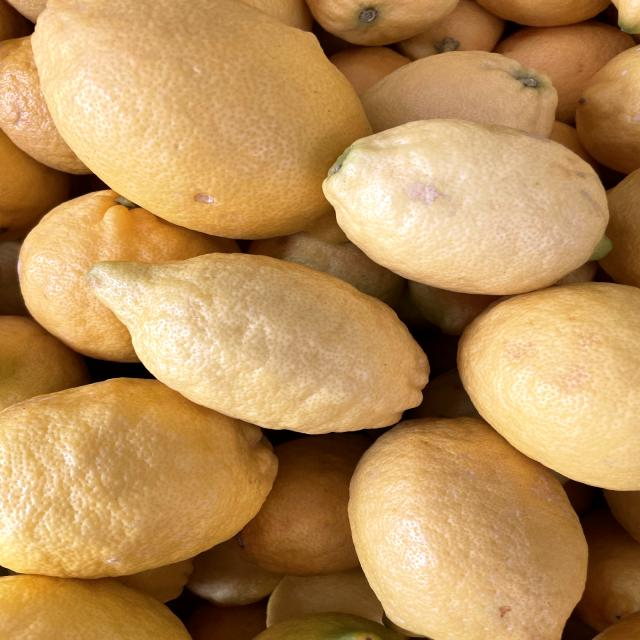lemon: (84, 238, 444, 440), (0, 369, 289, 582), (309, 100, 624, 292), (340, 407, 595, 640)
